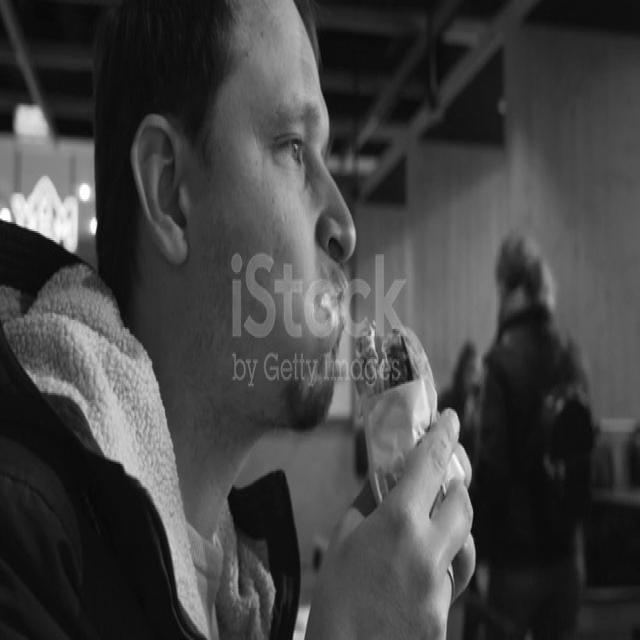Eating: (155, 36, 482, 621)
